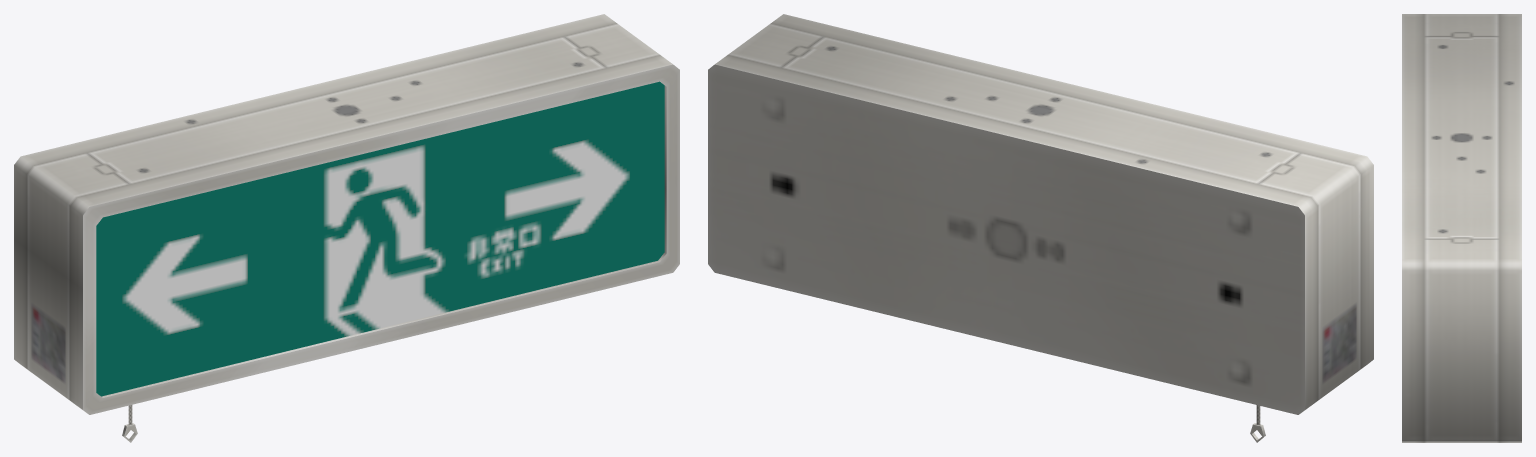
Rendered from SHW_Exitlight_01_05.fbx.
3 renders of one model, left to right at view 1: azimuth 30°, elevation 25°; view 2: azimuth 150°, elevation 25°; view 3: azimuth 270°, elevation 25°, orthographic. The views are drawn at different scales.
Parts seen in each view (by area): view 1: shw_exitlight_01_05; view 2: shw_exitlight_01_05; view 3: shw_exitlight_01_05.
Part boxes in pixels (x1,y1,x2,y2): shw_exitlight_01_05: [14, 14, 679, 442]; shw_exitlight_01_05: [708, 14, 1373, 442]; shw_exitlight_01_05: [1402, 14, 1521, 442].
Bounding box in the file's own units: 90 × 40.17 × 18.
